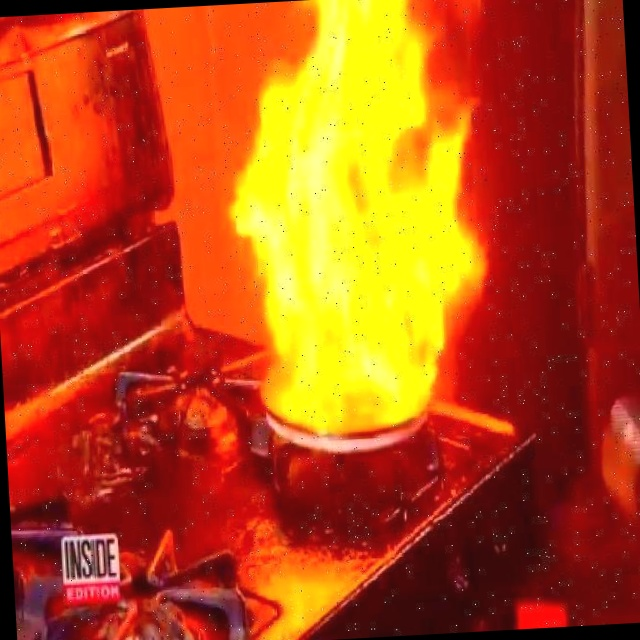fire: (197, 0, 514, 506)
